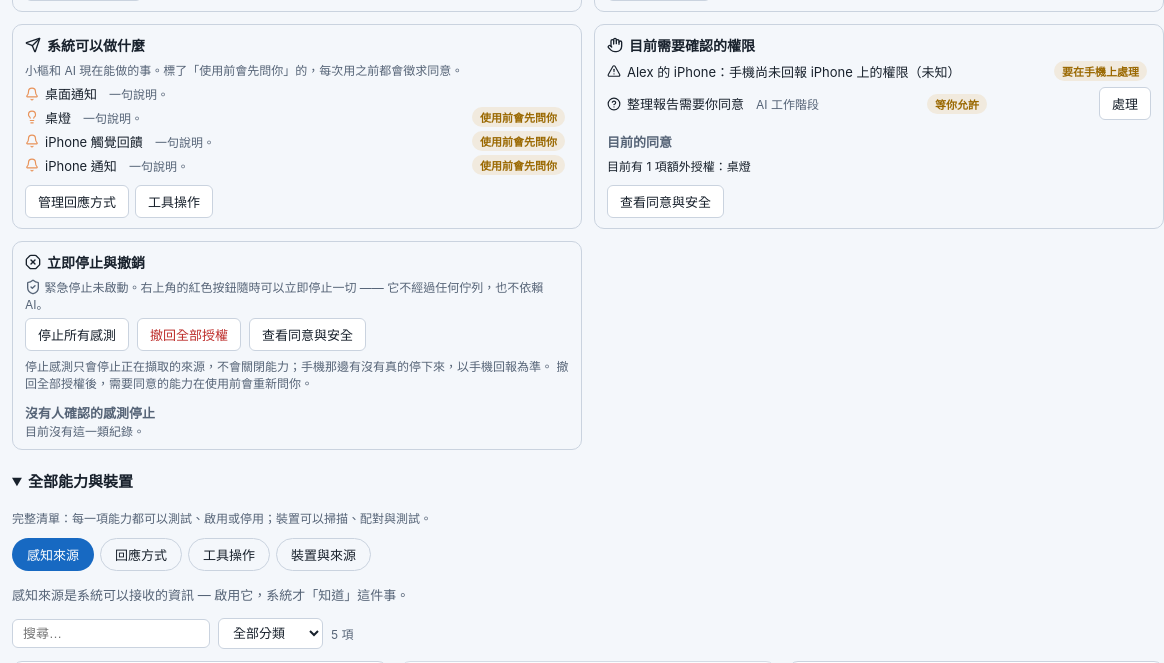
連接與權限：第一層五區（裝置優先） › 立即停止與撤銷：停止所有感測逐項照實回報，撤回全部授權要二次確認
(page scrolled)
Step 1. Click the button "停止所有感測" → (77, 334), box [25,318,129,351]
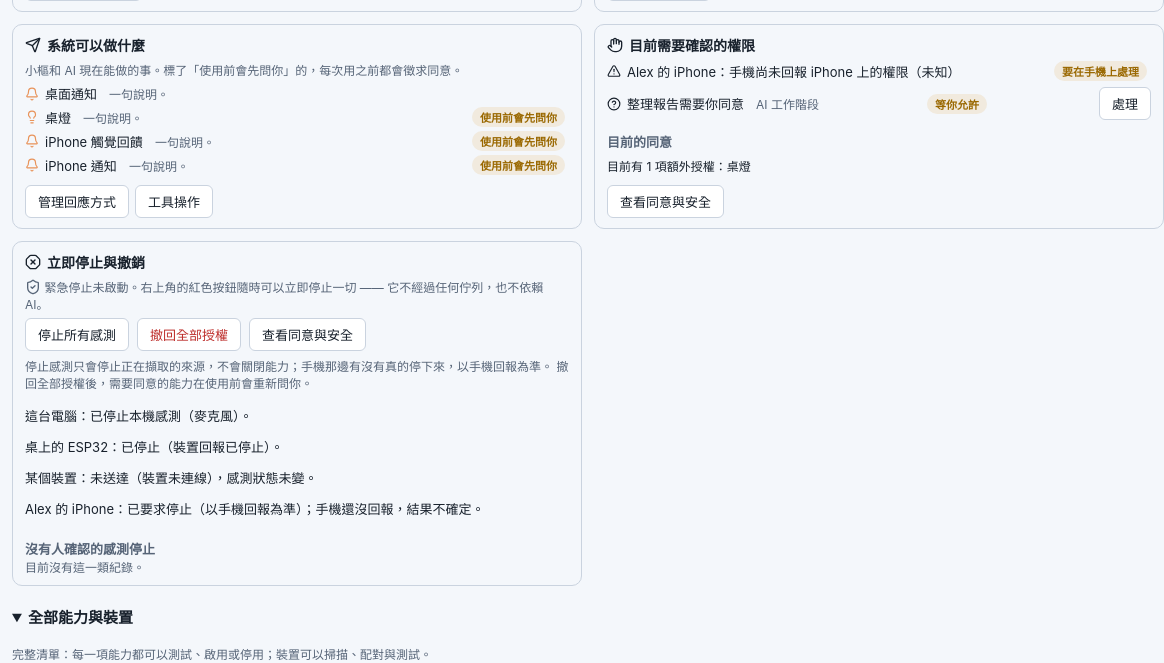
Check: the list item "這台電腦：已停止本機感測（麥克風）。" is shown, box [25,408,252,424]
Check: the list item "Alex 的 iPhone：已要求停止（以手機回報為準）；手機還沒回報，結果不確定。" is shown, box [25,501,484,517]
Check: the list item "桌上的 ESP32：已停止（裝置回報已停止）。" is shown, box [25,439,284,455]
Step 2. Click the button "撤回全部授權" → (189, 334), box [137,318,241,351]
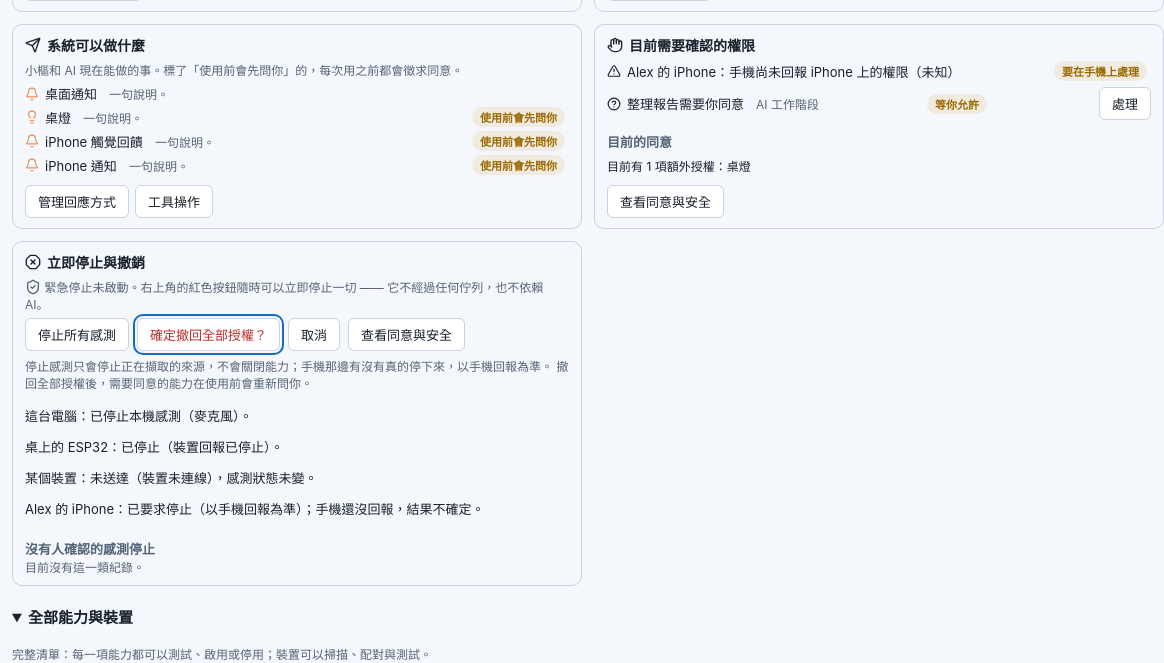
Step 3. Click the button "確定撤回全部授權？" → (208, 334), box [137,318,280,351]
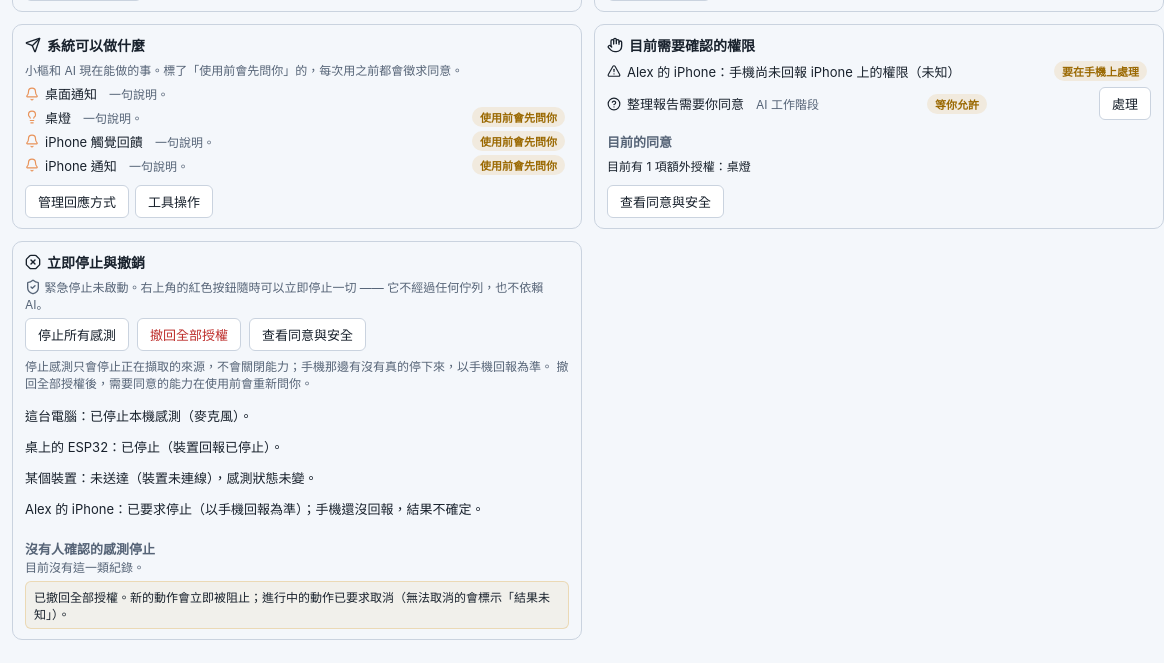
Check: the text "已撤回全部授權。新的動作會立即被阻止；進行中的動作已要求取消（無法取消的會標示「結果未知」）。" is shown, box [25,581,569,629]
